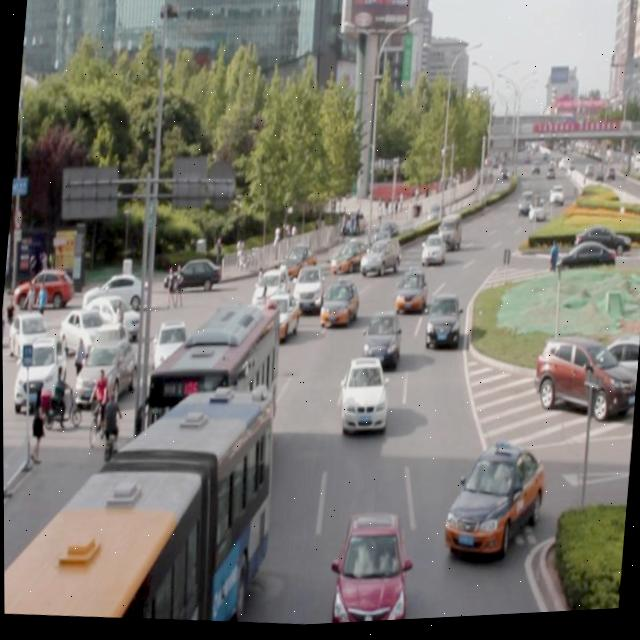car: (440, 446, 544, 565), (330, 512, 411, 627), (335, 359, 392, 440), (253, 297, 303, 351), (210, 308, 252, 369), (288, 266, 331, 323), (422, 296, 461, 358), (360, 313, 400, 372), (318, 282, 360, 334), (329, 240, 373, 285), (251, 271, 289, 321), (392, 274, 429, 323), (359, 242, 400, 280), (418, 238, 445, 272)
truck: (435, 217, 462, 258)
van: (2, 367, 278, 635), (145, 305, 287, 507)
